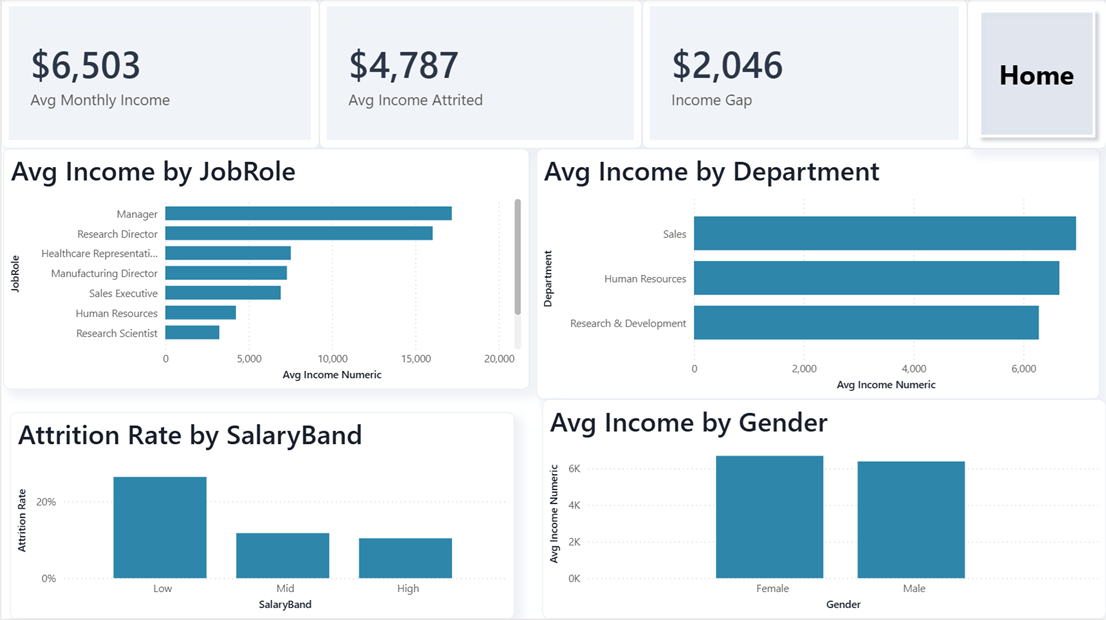

Layout of this report page (visuals, bound fields, positions):
{"tool":"powerbi","page":{"name":"Salary & Compensation","canvas":[1280,720],"ordinal":4},"visuals":[{"type":"cardVisual","fields":{"Data":["Measures (2).Avg Monthly Income"]},"box":[0,0,368.5,173.8],"z":0},{"type":"cardVisual","fields":{"Data":["Measures (2).Avg Income Attrited"]},"box":[368.5,0,374.3,173.8],"z":1000},{"type":"cardVisual","fields":{"Data":["Measures (2).Income Gap"]},"box":[742.7,0,376.6,173.8],"z":2000},{"type":"clusteredBarChart","title":"Avg Income by JobRole","fields":{"Category":["HR_Data.JobRole"],"Y":["Measures (2).Avg Income Numeric"]},"box":[2.3,173.8,609.5,279.3],"z":3000},{"type":"clusteredColumnChart","fields":{"Category":["HR_Data.SalaryBand"],"Y":["Measures (2).Attrition Rate"]},"box":[10.4,479.7,584,239.9],"z":4000},{"type":"clusteredBarChart","title":"Avg Income by Department","fields":{"Category":["HR_Data.Department"],"Y":["Measures (2).Avg Income Numeric"]},"box":[619.9,173.8,652.4,290.8],"z":5000},{"type":"clusteredColumnChart","title":"Avg Income by Gender","fields":{"Category":["HR_Data.Gender"],"Y":["Measures (2).Avg Income Numeric"]},"box":[626.9,464.7,653.5,254.9],"z":6000},{"type":"actionButton","box":[1119.3,0,161.1,173.8],"z":6001}]}

Visuals, with their boxes in screenshot pixels (x1, y1, x2, y2), scaled from the page's 1280x720 canvas onto the 1106x620 screenshot:
cardVisual - Measures (2).Avg Monthly Income: BBox(0, 0, 318, 150)
cardVisual - Measures (2).Avg Income Attrited: BBox(318, 0, 642, 150)
cardVisual - Measures (2).Income Gap: BBox(642, 0, 967, 150)
"Avg Income by JobRole" clusteredBarChart: BBox(2, 150, 529, 390)
clusteredColumnChart - HR_Data.SalaryBand x Measures (2).Attrition Rate: BBox(9, 413, 514, 619)
"Avg Income by Department" clusteredBarChart: BBox(536, 150, 1099, 400)
"Avg Income by Gender" clusteredColumnChart: BBox(542, 400, 1105, 619)
actionButton: BBox(967, 0, 1105, 150)
